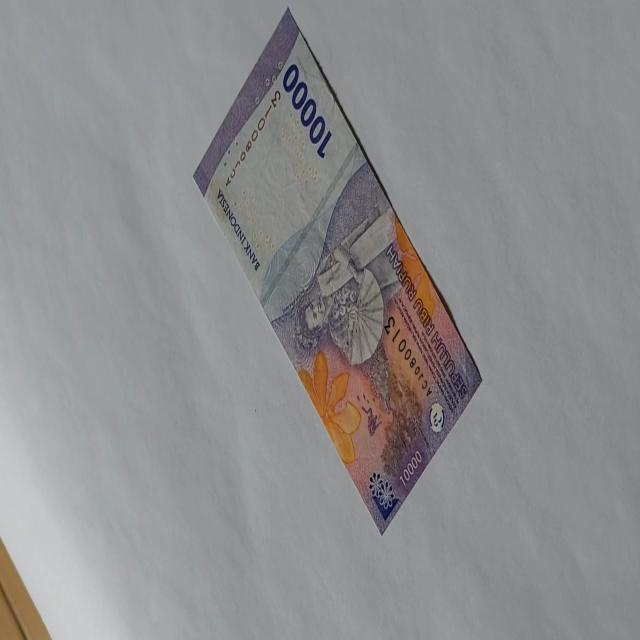sepuluh ribu rupiah: (193, 6, 483, 535), (281, 60, 333, 160), (216, 186, 260, 273)
